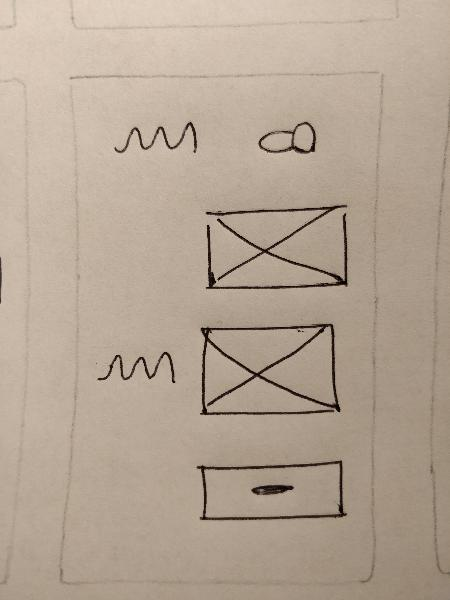button: (190, 455, 356, 535)
image: (192, 315, 347, 421), (196, 198, 354, 301)
switch: (246, 115, 324, 166)
text: (92, 347, 183, 399), (106, 113, 207, 159)
